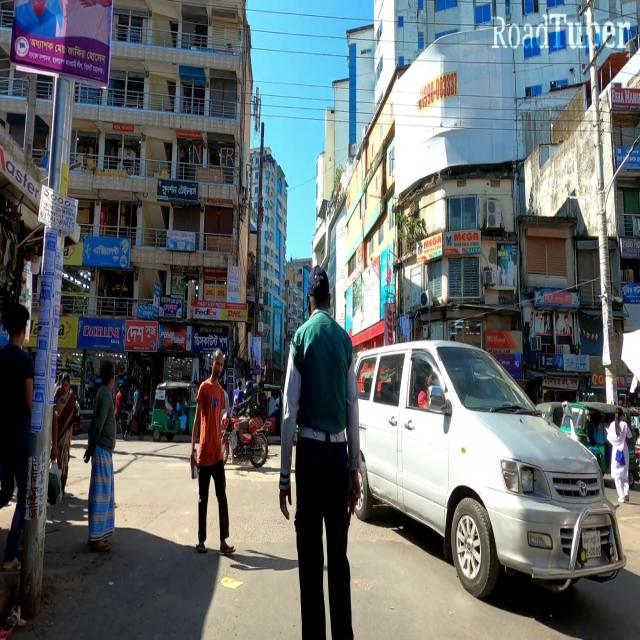white: (353, 334, 637, 596)
